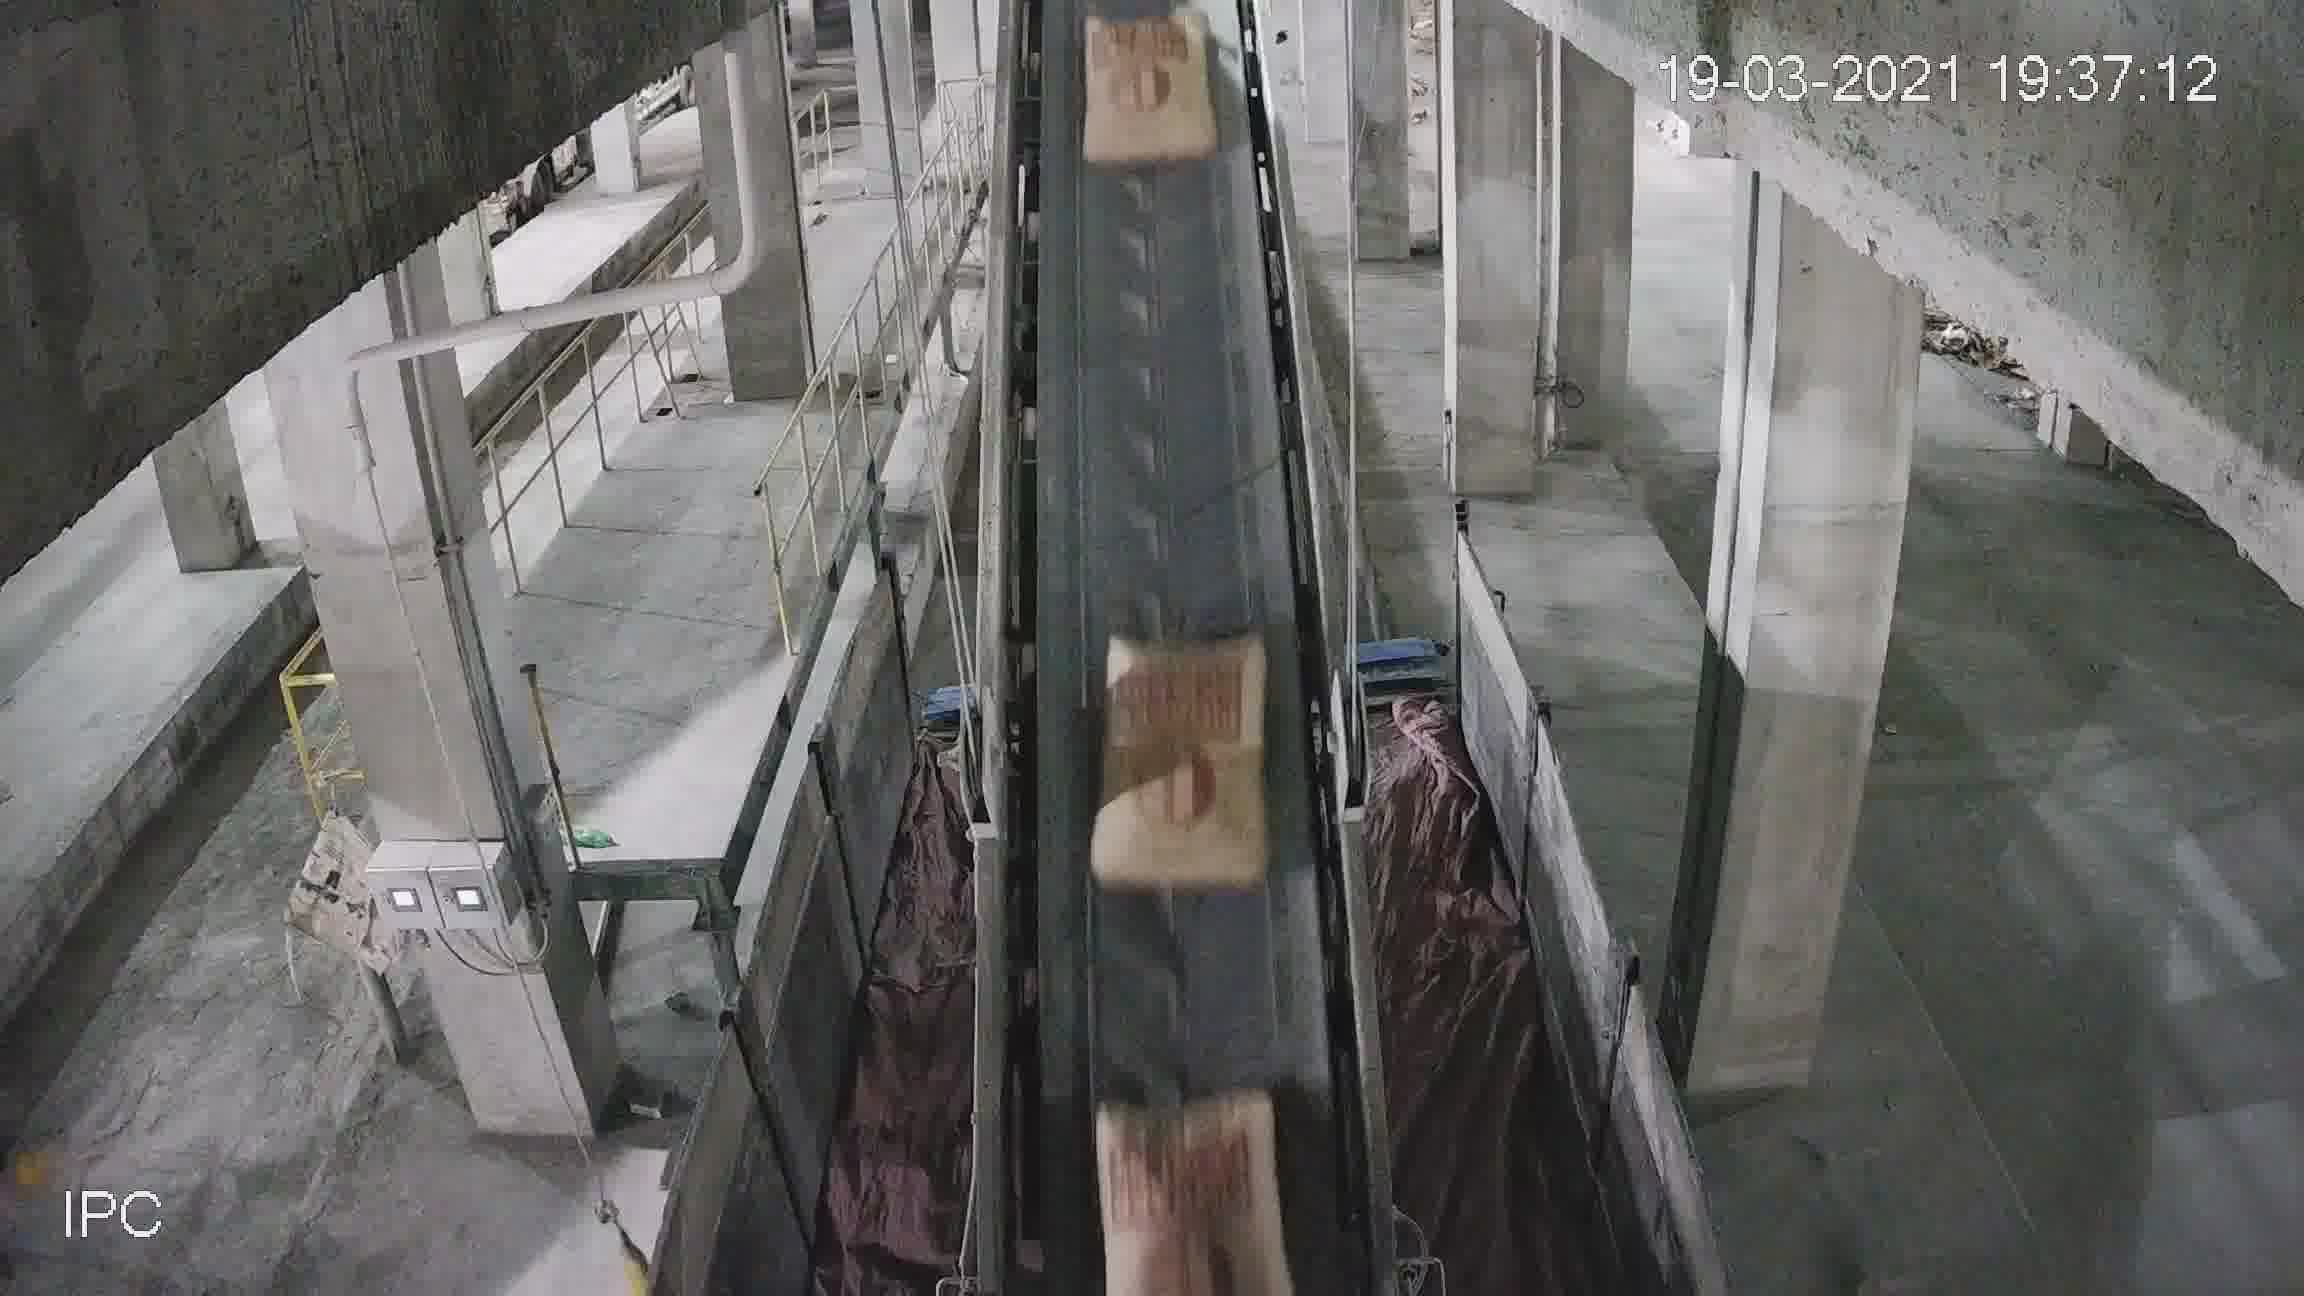bag: (1100, 631, 1275, 889), (1079, 9, 1215, 169), (1100, 1090, 1279, 1188)
belt: (983, 112, 1348, 1165)
